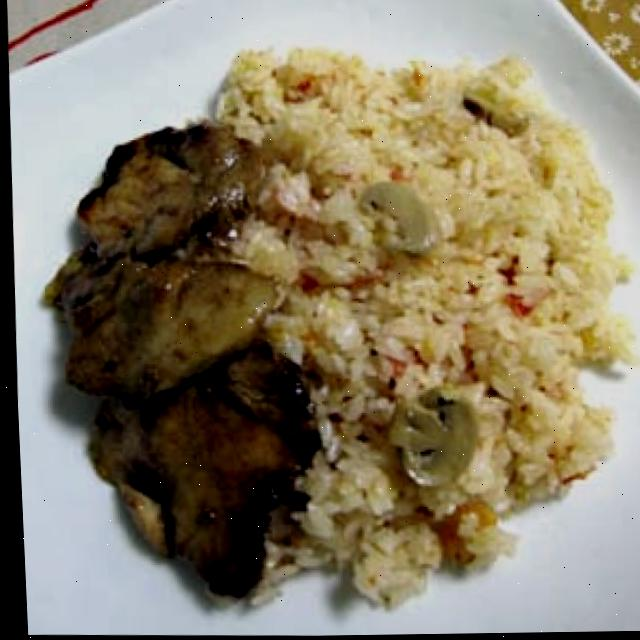米饭主食: (271, 55, 607, 579)
